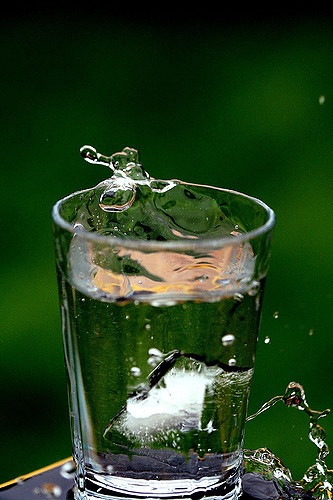glass of water: (57, 205, 249, 500)
